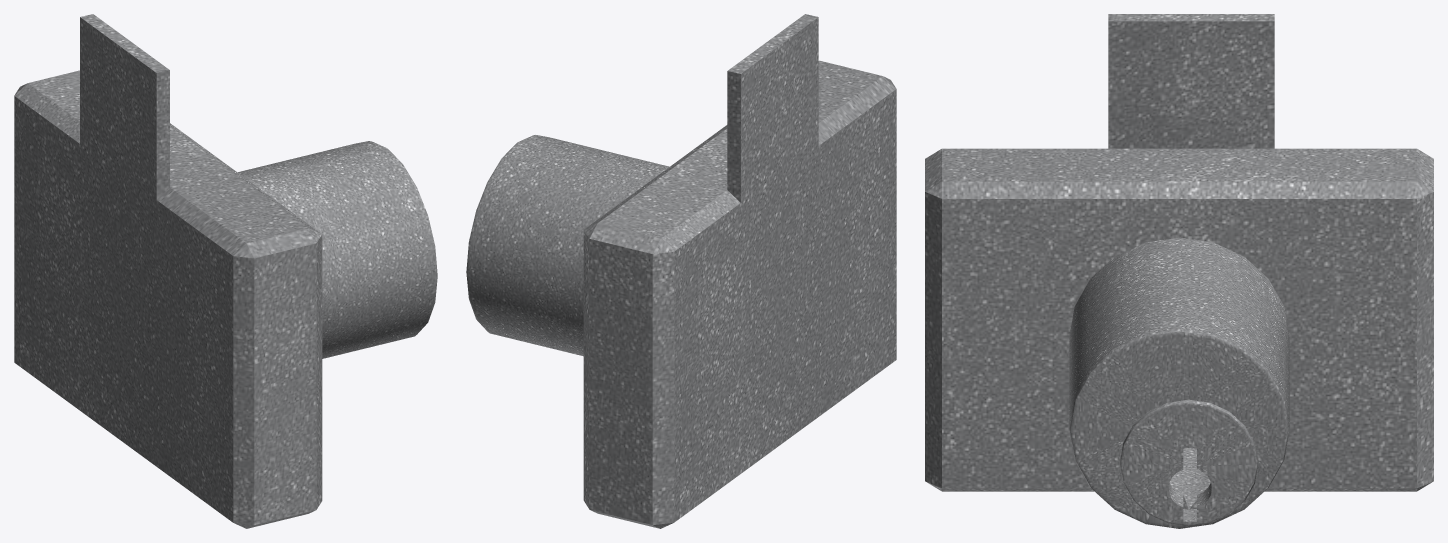
The model's file is DrawerLock.fbx.
The picture shows the model from 3 angles, left to right: view 1: azimuth 30°, elevation 25°; view 2: azimuth 150°, elevation 25°; view 3: azimuth 270°, elevation 25°; orthographic projection. The views are drawn at different scales.
Visible parts, largest first — view 1: DrawerLock; view 2: DrawerLock; view 3: DrawerLock.
Boxes of the visible parts, box(x1,y1,x2,y2) form: DrawerLock: box(14, 14, 437, 528); DrawerLock: box(466, 14, 896, 528); DrawerLock: box(925, 14, 1433, 528).
Size of the model in its own units: 4.18 by 5.98 by 6.31.
Materials: 1 (1 with a texture image).
